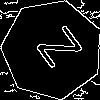Z: (27, 24, 83, 76)
